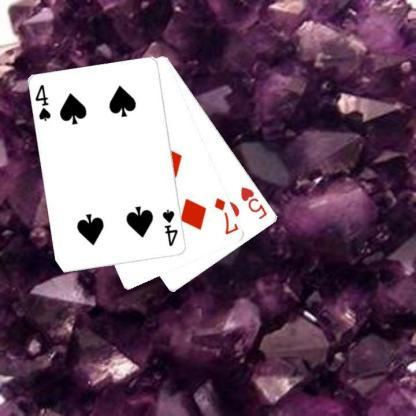4S: (160, 207, 180, 248), (33, 82, 52, 123)
5H: (238, 184, 269, 221)
7D: (212, 195, 239, 236)
